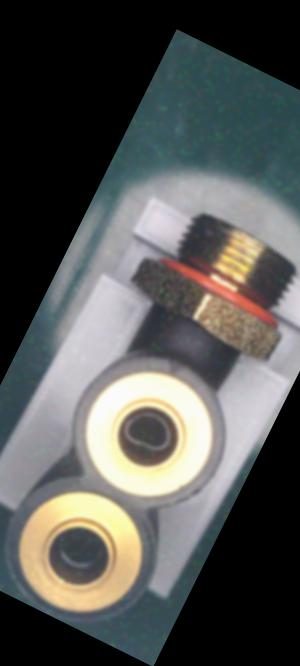bump: (160, 352, 187, 378)
joint line: (181, 326, 202, 357)
off-centered: (109, 398, 183, 466)
